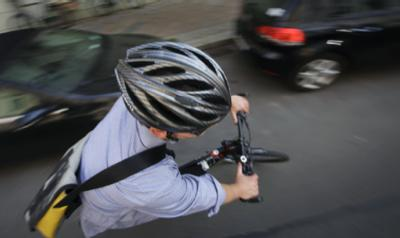With Helmet: (112, 36, 233, 135)
